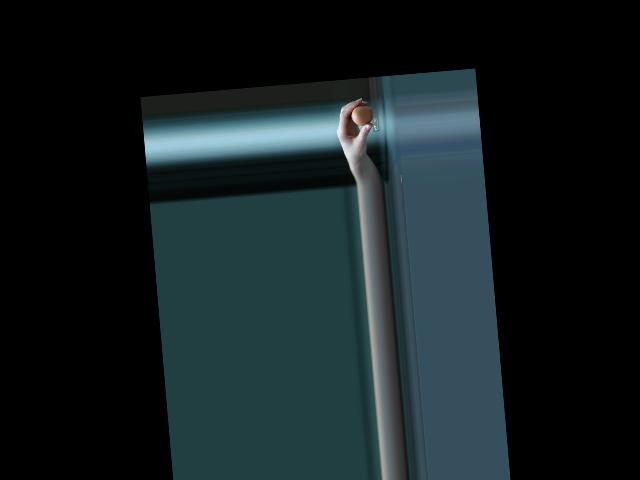egg: (350, 104, 374, 126)
